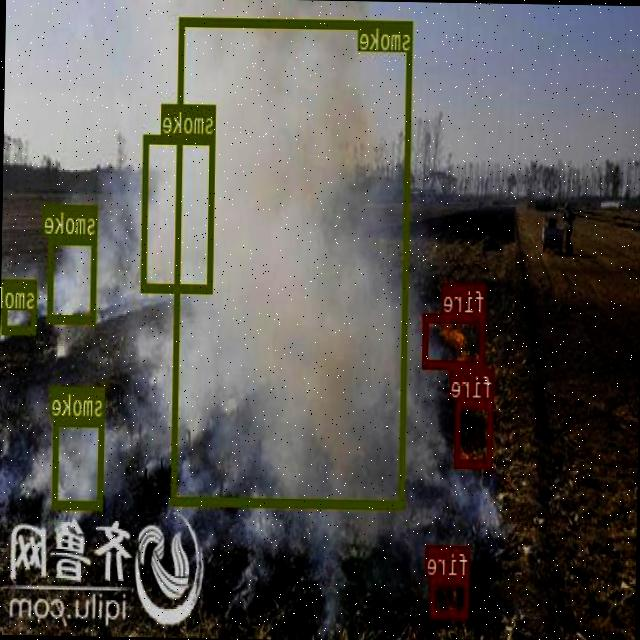fire: (423, 312, 486, 368), (455, 398, 493, 466), (430, 575, 470, 618)
smoke: (172, 16, 414, 507), (142, 132, 216, 292), (52, 417, 105, 508), (48, 232, 98, 322), (2, 278, 37, 334)
